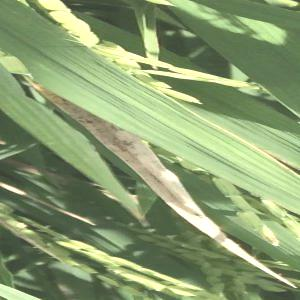2 BacterialBlight: (156, 170, 209, 220)
